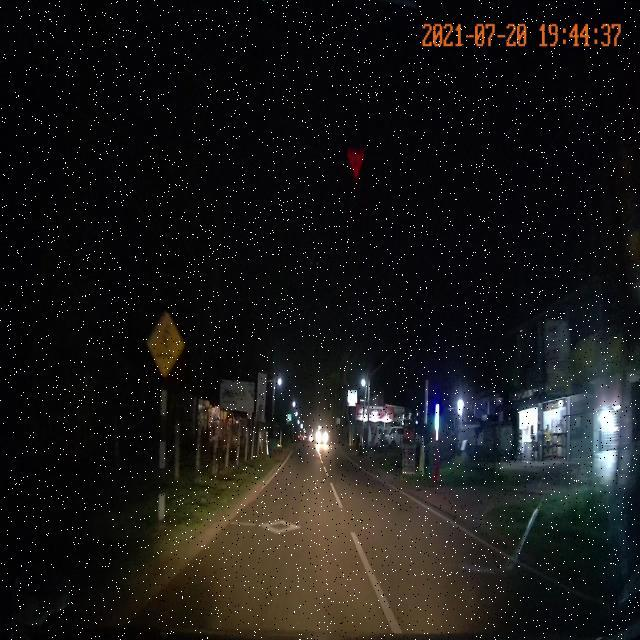diamond: (216, 515, 360, 542)
